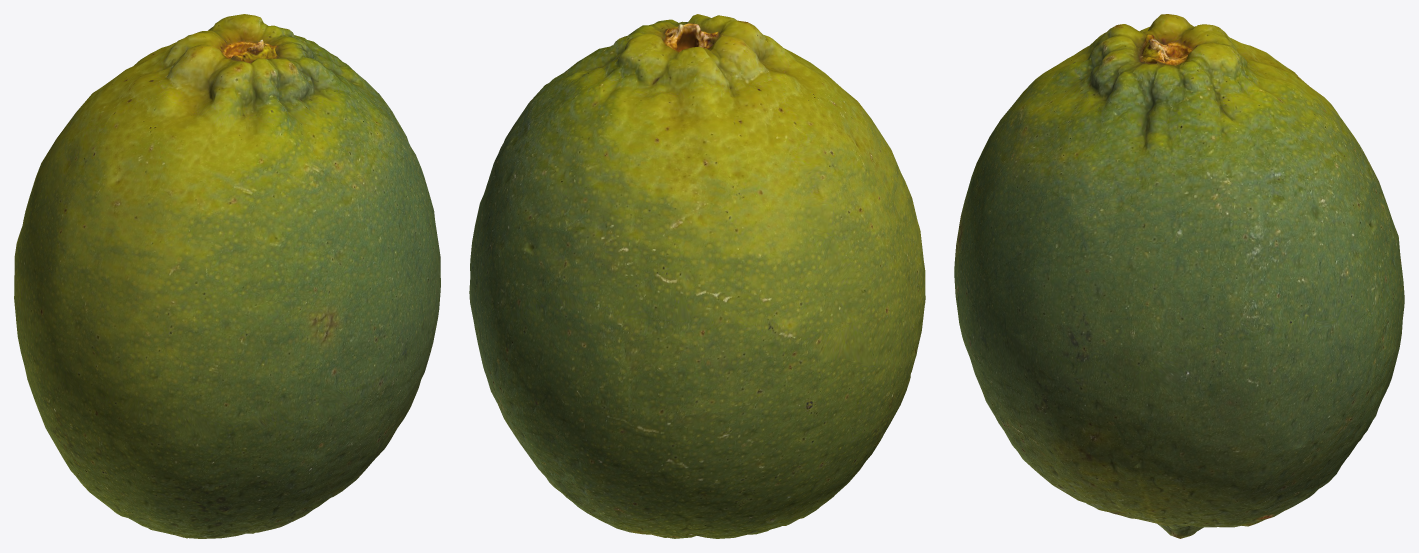
File: lime.glb
3 views of the same model, side by side, from view 1: azimuth 30°, elevation 25°; view 2: azimuth 150°, elevation 25°; view 3: azimuth 270°, elevation 25° (orthographic).
Parts seen in each view (by area): view 1: food_lime_01; view 2: food_lime_01; view 3: food_lime_01.
Boxes of the visible parts, x1,y1,x2,y2 form: food_lime_01: [14, 14, 440, 538]; food_lime_01: [469, 14, 925, 538]; food_lime_01: [954, 14, 1404, 538].
Bounding box in the file's own units: 0.0601 × 0.0754 × 0.0613.
Materials: 1 (1 with a texture image).
